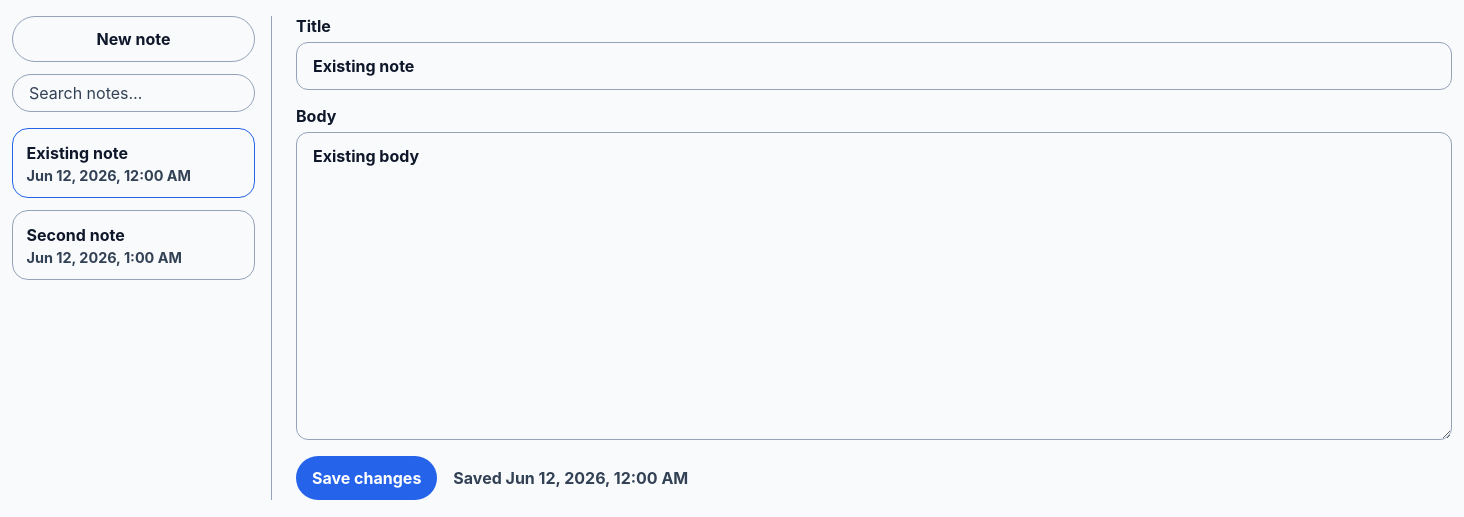
Test: NoteEditor › search › shows empty-state message when no results match
This screenshot has width=1464, height=517.
Type "zzz" into the search field named "Search notes by title or body".
click(134, 93); type("zzz")  # box [12, 74, 255, 112]
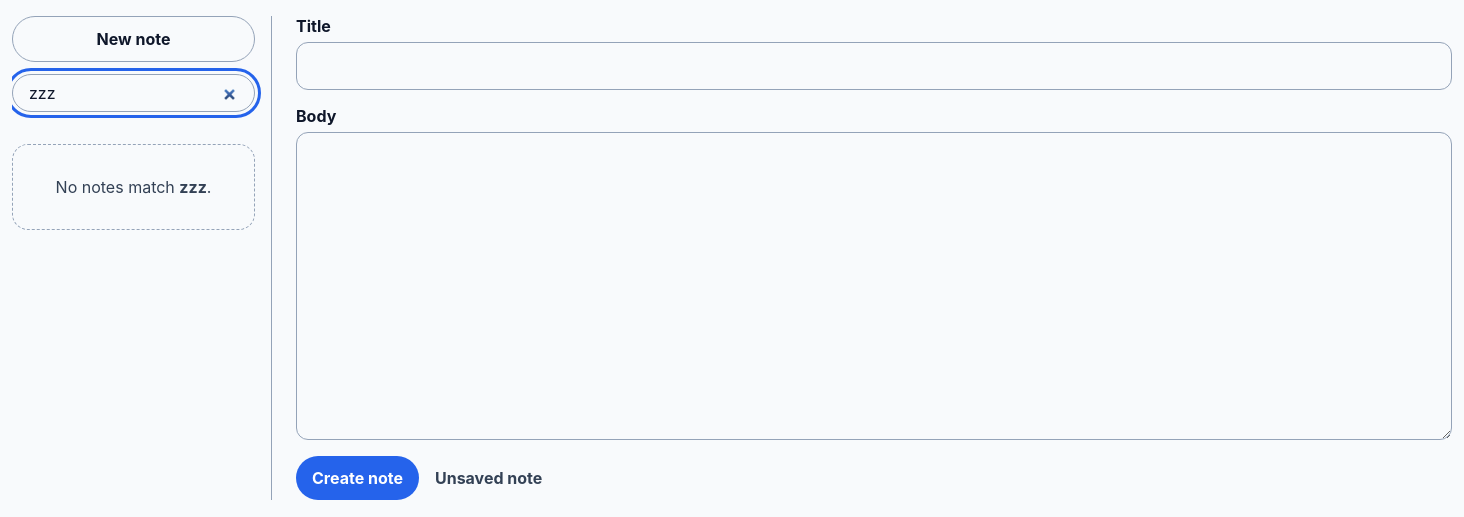
Check: the text "No notes match zzz." is shown, box [45, 177, 222, 197]
